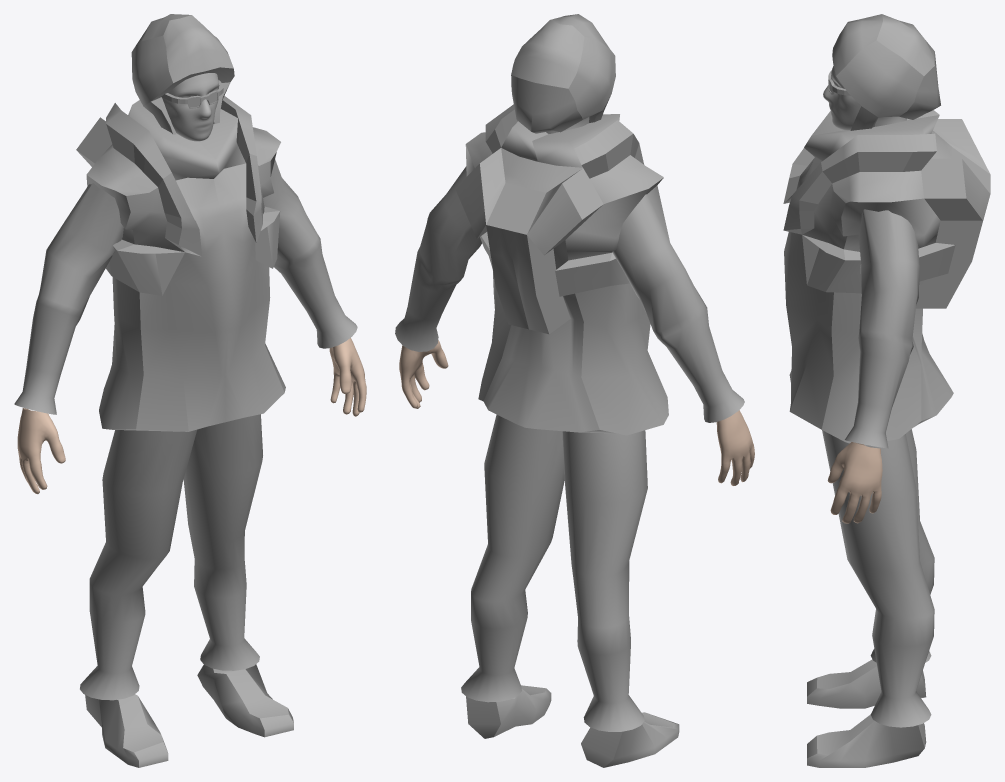
The model's file is Soldier_01.fbx.
3 views of the same model, side by side, from view 1: azimuth 30°, elevation 25°; view 2: azimuth 150°, elevation 25°; view 3: azimuth 270°, elevation 25° (orthographic).
Parts seen in each view (by area): view 1: SoldierBody, SoldierLegs, SoldierArms, SoldierFeet, Helmet, SoldierHands, SoldierHead; view 2: SoldierBody, SoldierLegs, SoldierArms, Helmet, SoldierFeet, SoldierHands; view 3: SoldierBody, SoldierLegs, SoldierArms, Helmet, SoldierFeet, SoldierHands, SoldierHead.
Boxes of the visible parts, left/top/right/bottom form: SoldierBody: left=76, top=96, right=285, bottom=431; SoldierLegs: left=80, top=414, right=262, bottom=700; SoldierArms: left=14, top=159, right=357, bottom=414; SoldierFeet: left=85, top=664, right=293, bottom=767; Helmet: left=131, top=14, right=234, bottom=134; SoldierHands: left=17, top=338, right=366, bottom=494; SoldierHead: left=162, top=73, right=218, bottom=141; SoldierBody: left=455, top=104, right=668, bottom=435; SoldierLegs: left=461, top=414, right=647, bottom=731; SoldierArms: left=395, top=166, right=744, bottom=422; Helmet: left=511, top=14, right=615, bottom=133; SoldierFeet: left=466, top=685, right=679, bottom=767; SoldierHands: left=399, top=340, right=754, bottom=485; SoldierBody: left=783, top=110, right=990, bottom=445; SoldierLegs: left=822, top=429, right=934, bottom=727; SoldierArms: left=845, top=209, right=919, bottom=448; Helmet: left=832, top=14, right=940, bottom=130; SoldierFeet: left=807, top=659, right=926, bottom=767; SoldierHands: left=827, top=442, right=882, bottom=523; SoldierHead: left=823, top=66, right=906, bottom=130.
Bounding box in the file's own units: 94.61 × 187 × 49.54.
